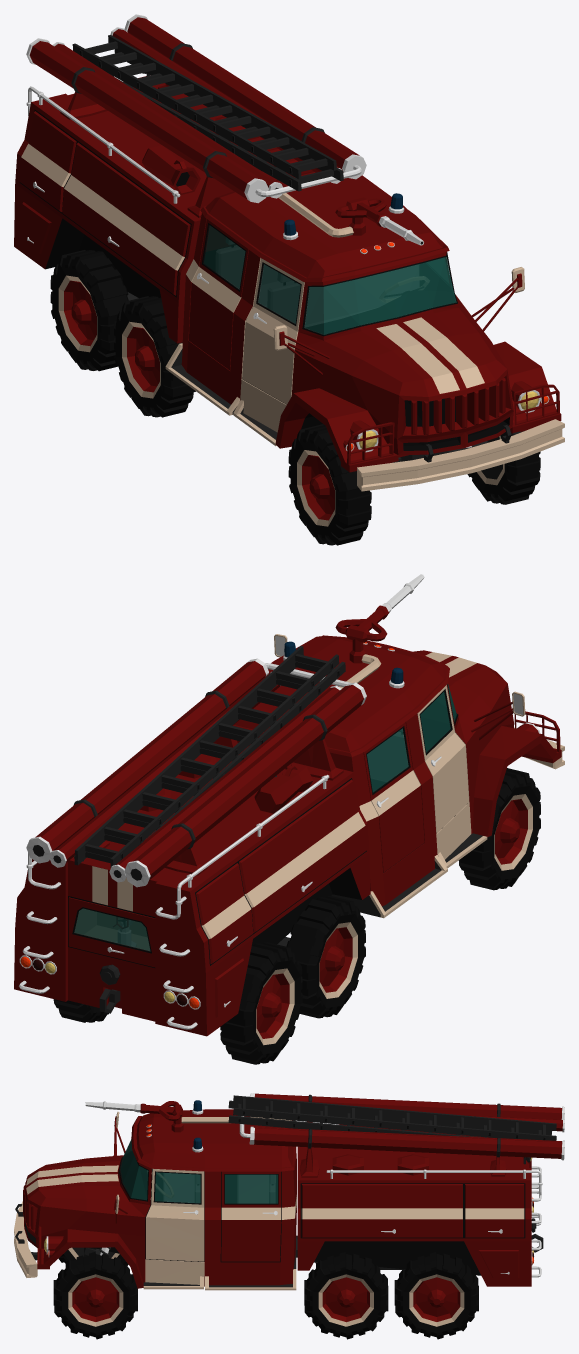
File: FireTruck_03.FBX
3 views of the same model, one above another, from view 1: azimuth 30°, elevation 25°; view 2: azimuth 150°, elevation 25°; view 3: azimuth 270°, elevation 25° (orthographic). The views are drawn at different scales.
Visible parts, largest first — view 1: FireTruck_03, pipes, interior, ladder_t-2, wheel_b2_r, wheel_f_r, wheel_b1_r, bumper_f, ladder_t-1, grill, wheel_f_l, can (+5 smaller); view 2: FireTruck_03, pipes, ladder_t-2, wheel_b1_r, wheel_b2_r, wheel_f_r, interior, ladder_t-1, can, nozzle, wheel_b2_l, lights (+1 smaller); view 3: FireTruck_03, pipes, wheel_b1_l, wheel_b2_l, wheel_f_l, ladder_t-2, interior, ladder_t-1, nozzle, bumper_f, lights, wheel_f_r (+2 smaller).
Boxes of the visible parts, box(x1,y1,x2,y2) form: FireTruck_03: box(14, 76, 561, 472); pipes: box(26, 14, 366, 217); interior: box(204, 226, 455, 334); ladder_t-2: box(72, 35, 336, 179); wheel_b2_r: box(50, 250, 128, 371); wheel_f_r: box(288, 424, 371, 545); wheel_b1_r: box(114, 296, 195, 417); bumper_f: box(357, 419, 564, 491); ladder_t-1: box(100, 49, 343, 191); grill: box(411, 378, 505, 434); wheel_f_l: box(467, 431, 540, 504); can: box(142, 145, 200, 194); FireTruck_03: box(14, 635, 561, 1036); pipes: box(26, 658, 366, 887); ladder_t-2: box(75, 646, 339, 867); wheel_b1_r: box(286, 896, 365, 1018); wheel_b2_r: box(220, 942, 302, 1064); wheel_f_r: box(458, 768, 540, 890); interior: box(74, 688, 455, 950); ladder_t-1: box(74, 661, 345, 865); can: box(254, 763, 313, 813); nozzle: box(335, 574, 424, 642); wheel_b2_l: box(53, 999, 108, 1022); lights: box(19, 643, 549, 1009); FireTruck_03: box(15, 1109, 543, 1290); pipes: box(239, 1093, 564, 1177); wheel_b1_l: box(304, 1252, 388, 1339); wheel_b2_l: box(394, 1252, 478, 1339); wheel_f_l: box(53, 1252, 137, 1339); ladder_t-2: box(233, 1095, 556, 1140); interior: box(121, 1140, 277, 1203); ladder_t-1: box(228, 1100, 551, 1137); nozzle: box(85, 1101, 182, 1120); bumper_f: box(14, 1201, 37, 1277); lights: box(46, 1110, 532, 1265); wheel_f_r: box(58, 1247, 128, 1265).
Bounding box in the file's own units: 33.18 × 36.14 × 88.59.
